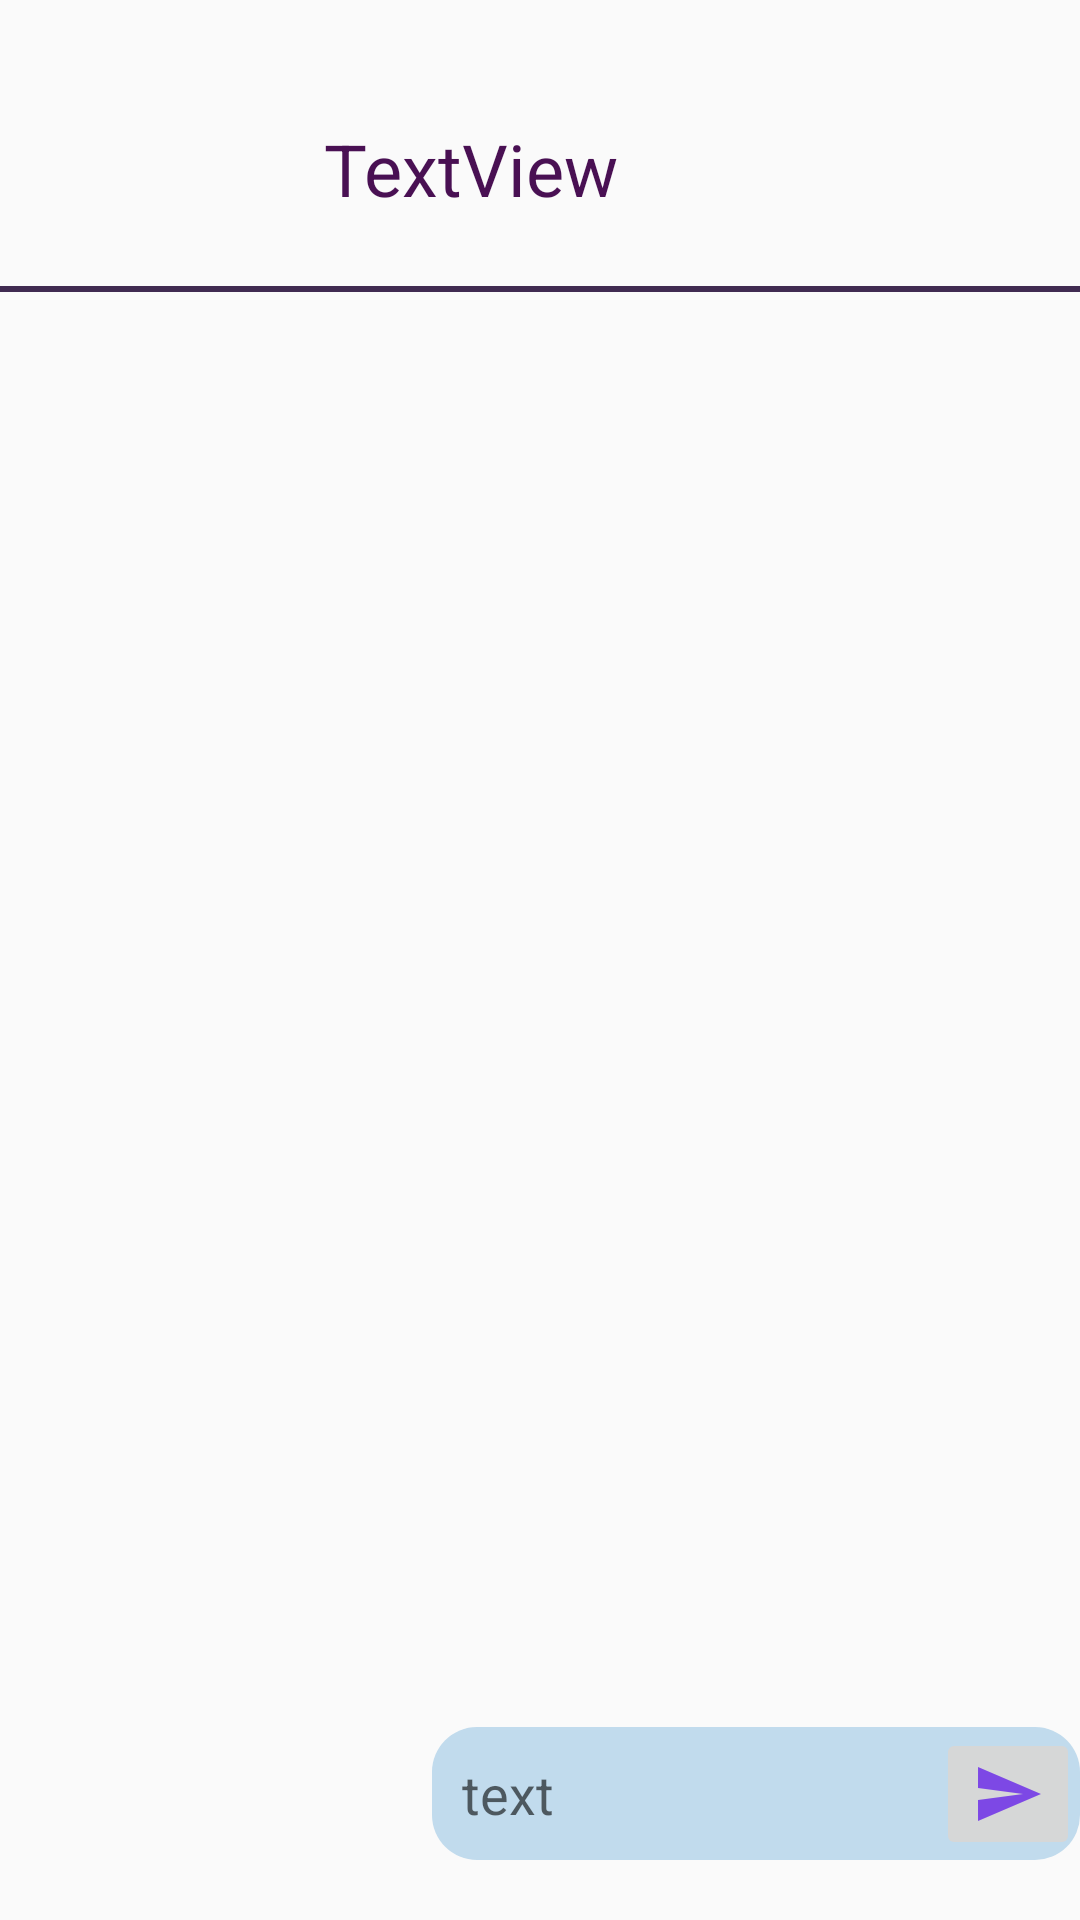

Where icons sit on this 1080*1920 app screen, as bbox(x1, y1, x2, y2):
send: bbox(936, 1728, 1080, 1860)
